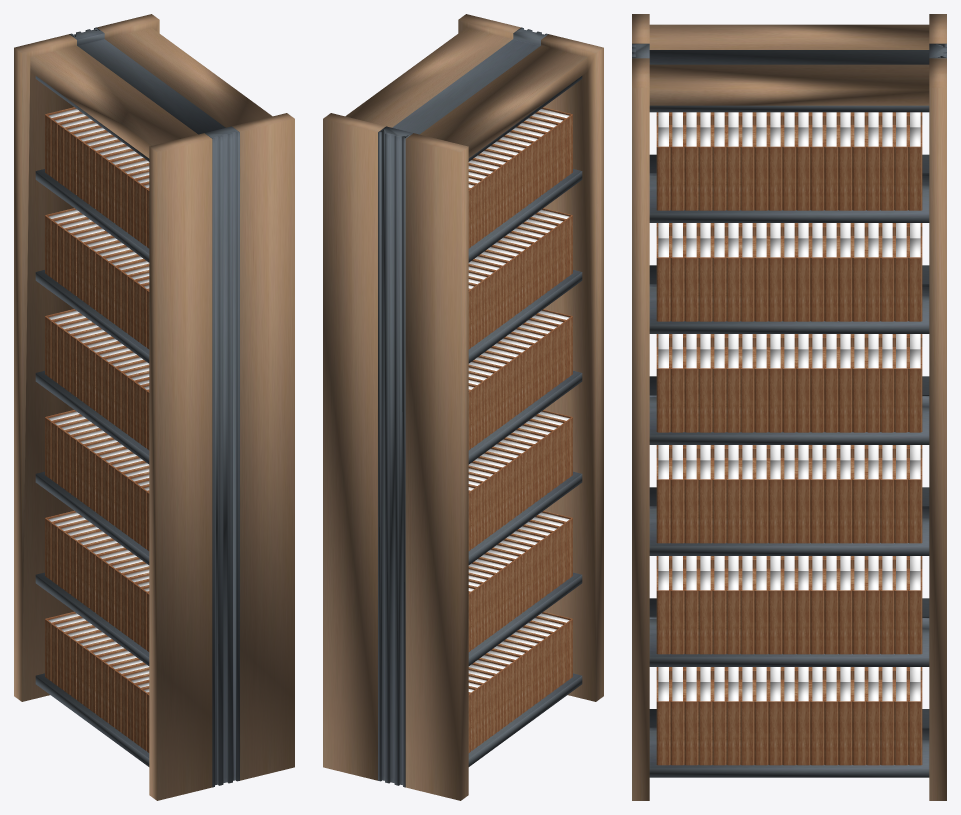
File: book1.obj
The picture shows the model from 3 angles, left to right: view 1: azimuth 30°, elevation 25°; view 2: azimuth 150°, elevation 25°; view 3: azimuth 270°, elevation 25°; orthographic projection. The views are drawn at different scales.
Parts seen in each view (by area): view 1: 3dSolid; view 2: 3dSolid; view 3: 3dSolid.
Part boxes in pixels (x1,y1,x2,y2): 3dSolid: [14, 14, 294, 800]; 3dSolid: [323, 14, 603, 800]; 3dSolid: [632, 14, 946, 800].
Size of the model in its own units: 50 by 225 by 90.
